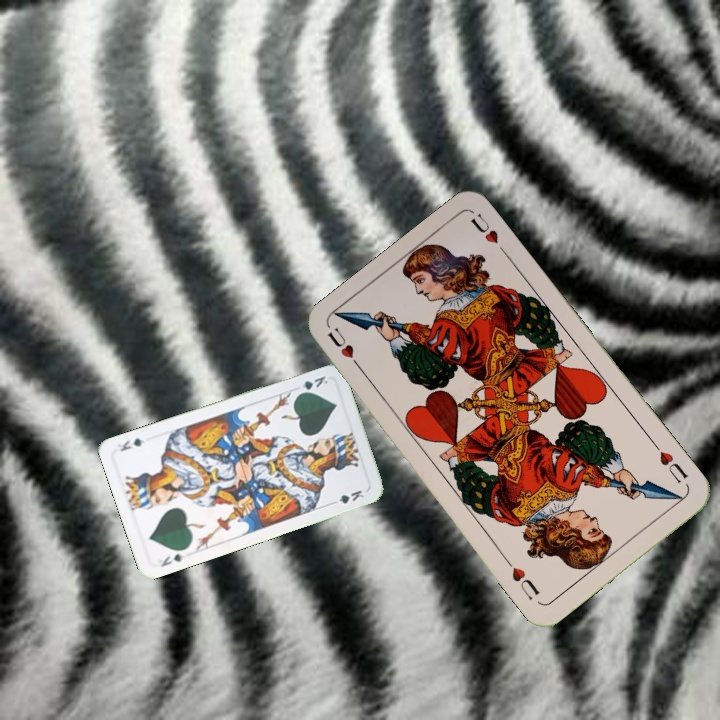GK: (293, 372, 330, 397), (155, 549, 187, 569)
HU: (323, 323, 366, 375), (649, 439, 691, 487)
